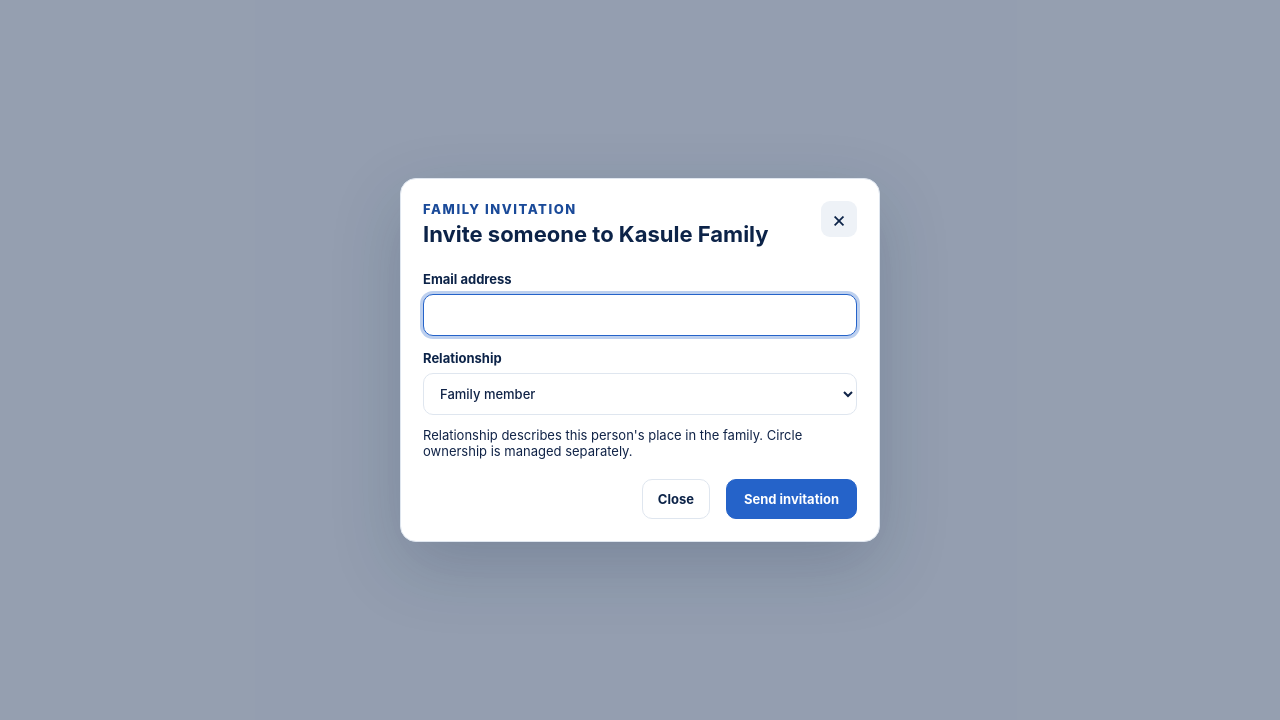
InviteMemberDialog › renders the normalized already-pending outcome safely
In the field labelled "Email address": point(640, 315) [423,294,857,336], type "relative@example.test"
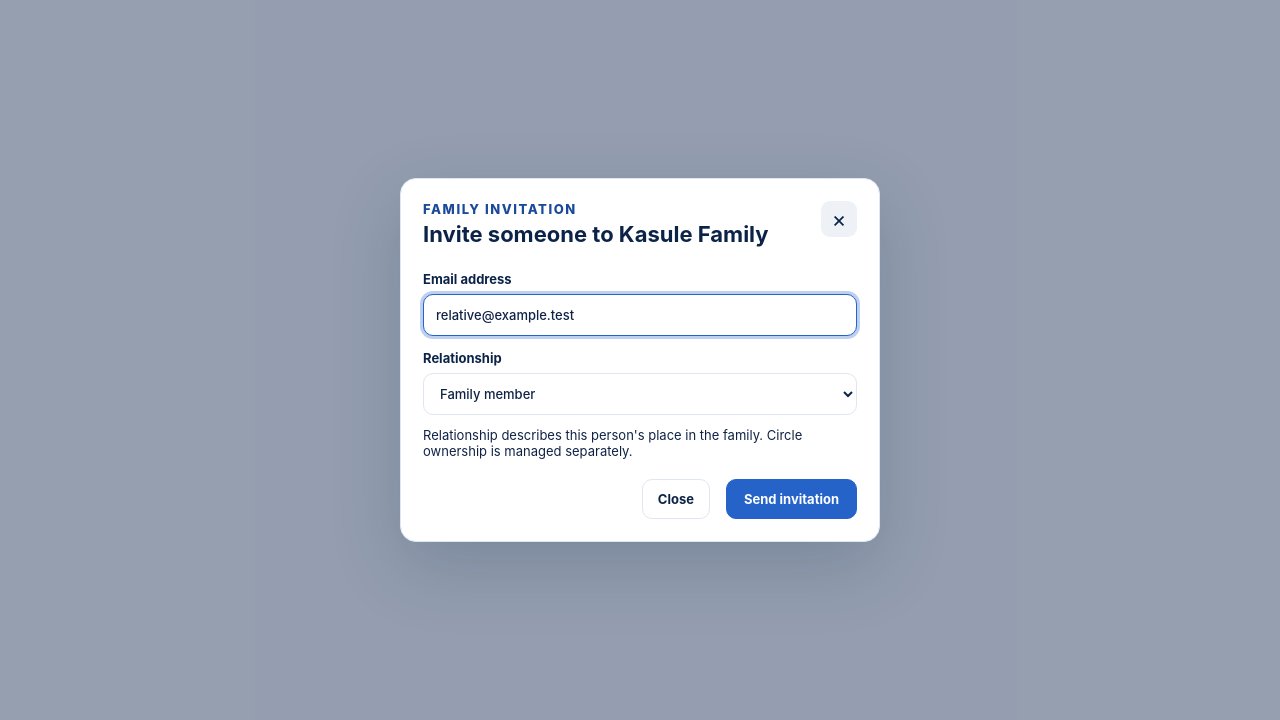
Click the button "Send invitation": point(791, 499) [726,479,857,519]
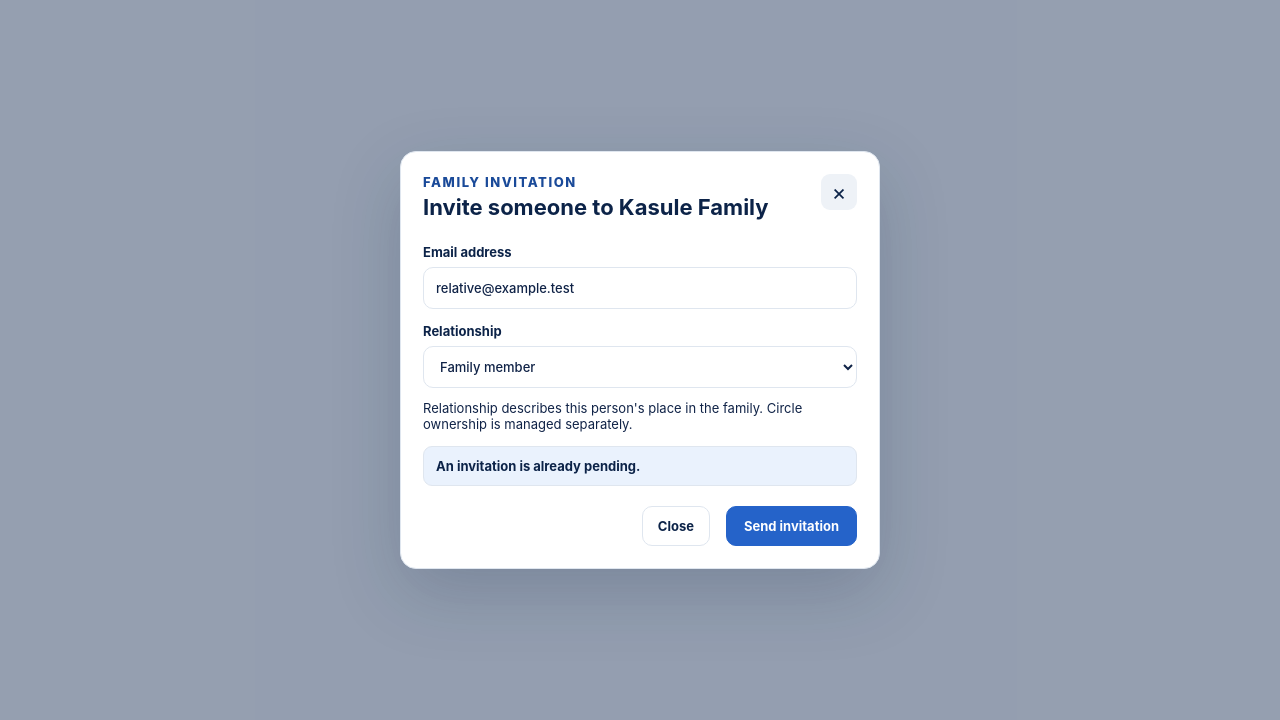
Expected: the text "An invitation is already pending." is shown, [423,446,857,486]
